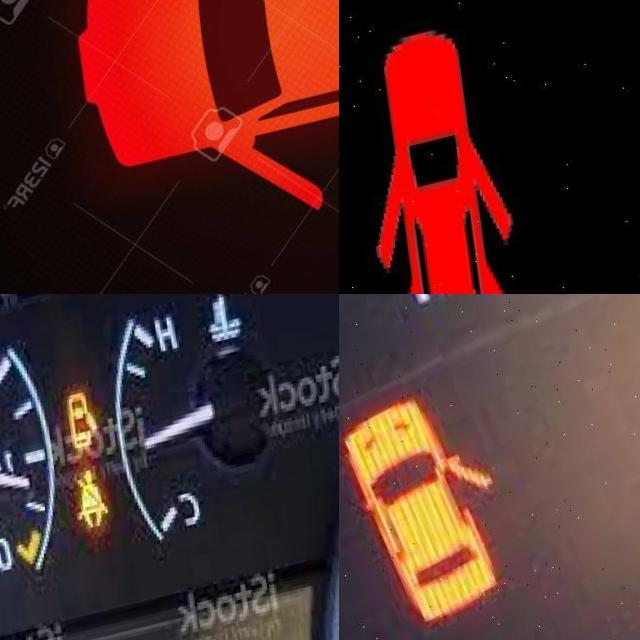Seat Belt: (60, 481, 104, 549)
